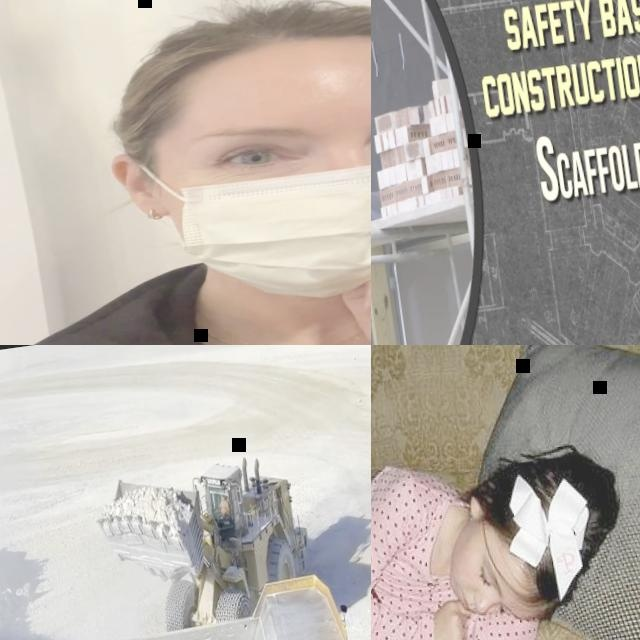Mask: (138, 105, 371, 313)
NO-Hardhat: (115, 0, 371, 109), (473, 447, 603, 621)
NO-Mask: (445, 549, 481, 615)
NO-Safety Vest: (3, 251, 371, 345), (371, 465, 458, 626), (220, 501, 229, 516)
Person: (0, 0, 371, 345), (371, 422, 640, 640), (217, 495, 231, 517)
machinery: (91, 446, 319, 637), (70, 559, 371, 640)
